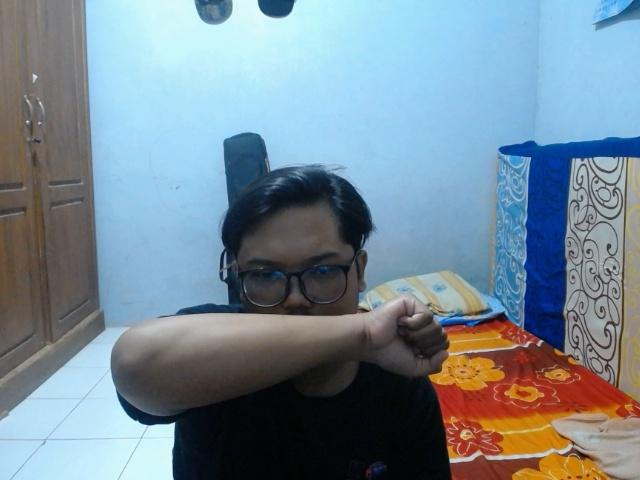Grab: (357, 291, 452, 384)
